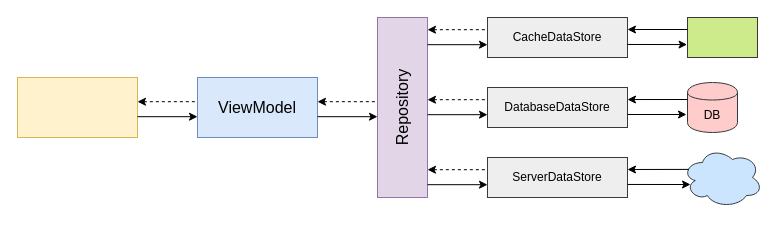
Image size: 780x225. Some labels were removed from this diagram. Here are the shapes that lost their labels. From the top down, the box of each, then its label:
(686, 16, 758, 58): Cache
(16, 76, 138, 138): View
(682, 146, 762, 208): Api
